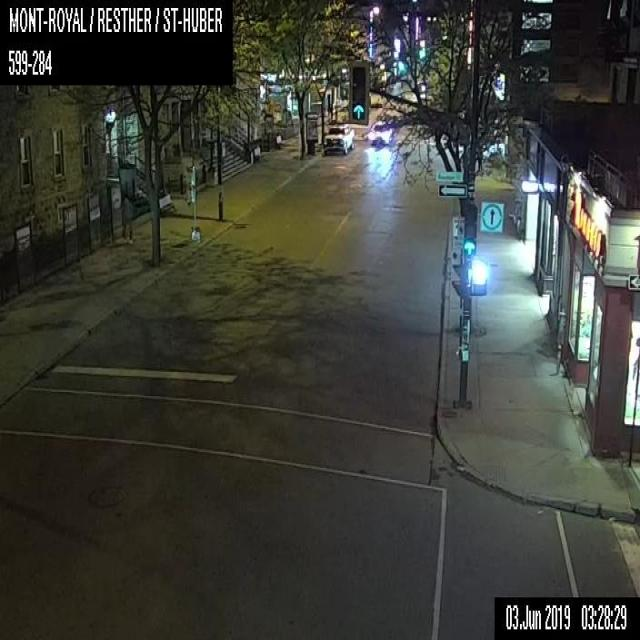vehicle: (323, 125, 354, 154), (368, 120, 393, 144)
